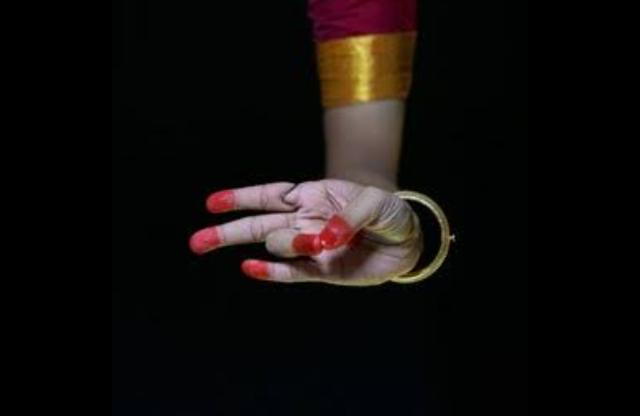mayur: (168, 100, 468, 324), (190, 176, 453, 286)
